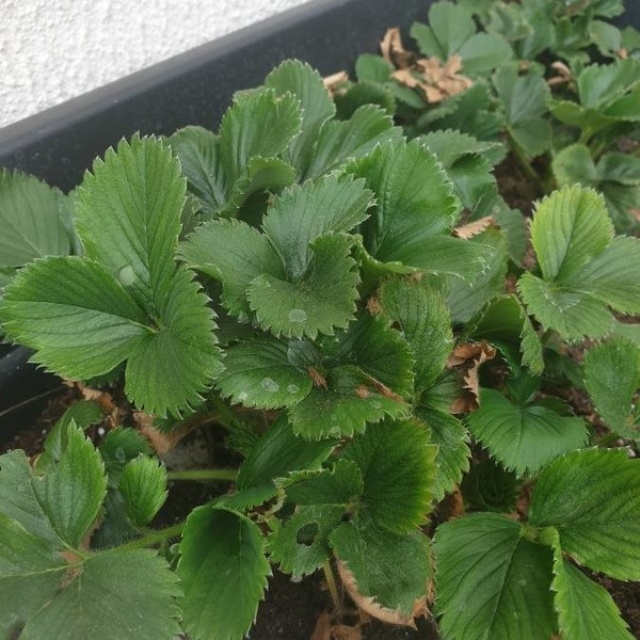obstacle: (57, 122, 594, 574)
